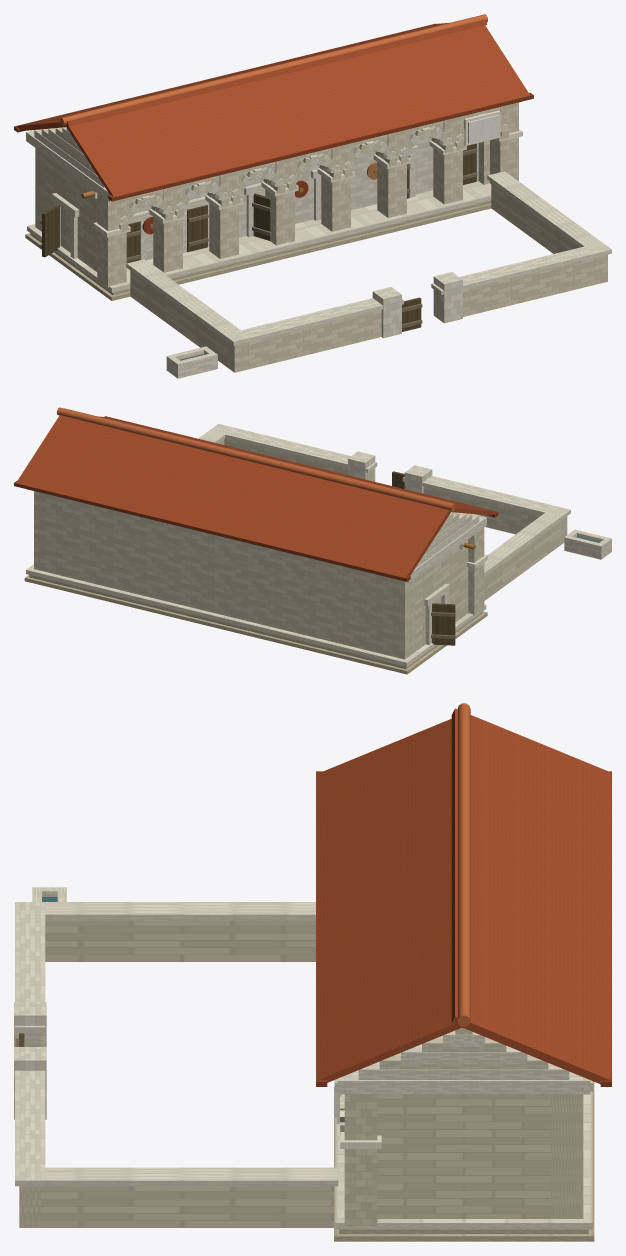
The model's file is pol-2-built.glb.
3 views of the same model, one above another, from view 1: azimuth 30°, elevation 25°; view 2: azimuth 150°, elevation 25°; view 3: azimuth 270°, elevation 25° (orthographic). The views are drawn at different scales.
Bounding box in the file's own units: 36.23 × 11.75 × 27.57.
Materials: 36 (29 with a texture image).
